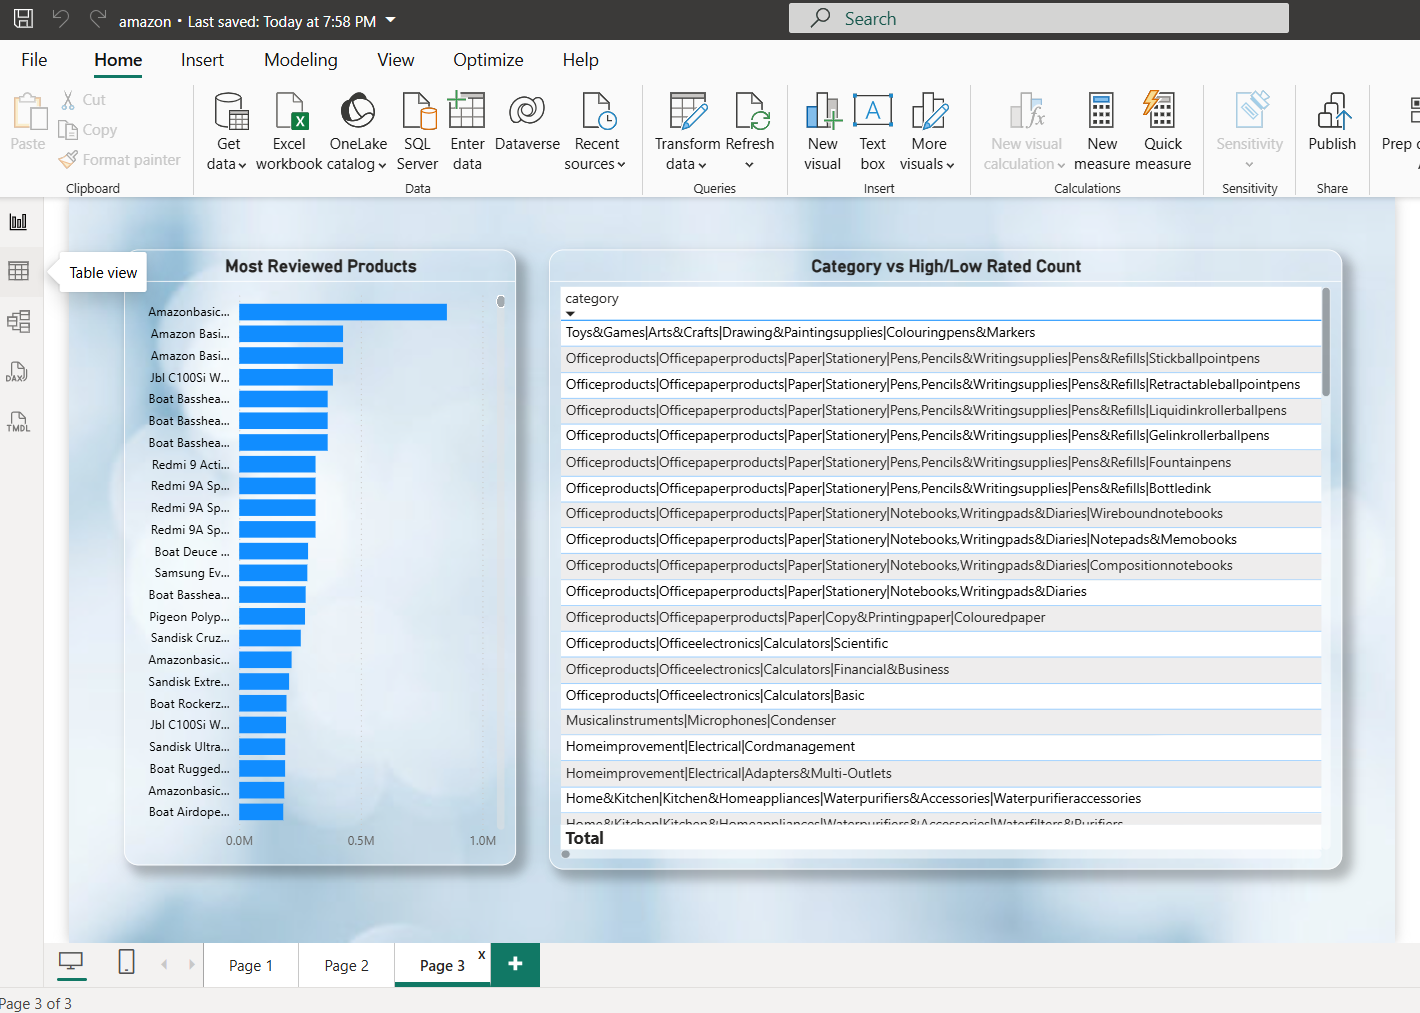

Layout of this report page (visuals, bound fields, positions):
{"tool":"powerbi","page":{"name":"Page 3","canvas":[1280,720],"ordinal":2},"visuals":[{"type":"barChart","title":"Most Reviewed Products","fields":{"Category":["amazon.product_name"],"Y":["Sum(amazon.rating_count)"]},"box":[53.5,50.8,378.7,594.2],"z":0},{"type":"pivotTable","title":"Category vs High/Low Rated Count","fields":{"Rows":["amazon.category"],"Columns":["amazon.High Rating Flag"],"Values":["Count(amazon.High Rating Flag)"]},"box":[463.8,50.8,765.7,598.3],"z":1000}]}

Visuals, with their boxes on the page's 1280x720 design canvas (x1, y1, x2, y2). These are canvas units, not pixel positions in the 1420x1013 screenshot, which may show the page scaled, cropped or inside an application window:
"Most Reviewed Products" barChart: <region>54, 51, 432, 645</region>
"Category vs High/Low Rated Count" pivotTable: <region>464, 51, 1230, 649</region>
